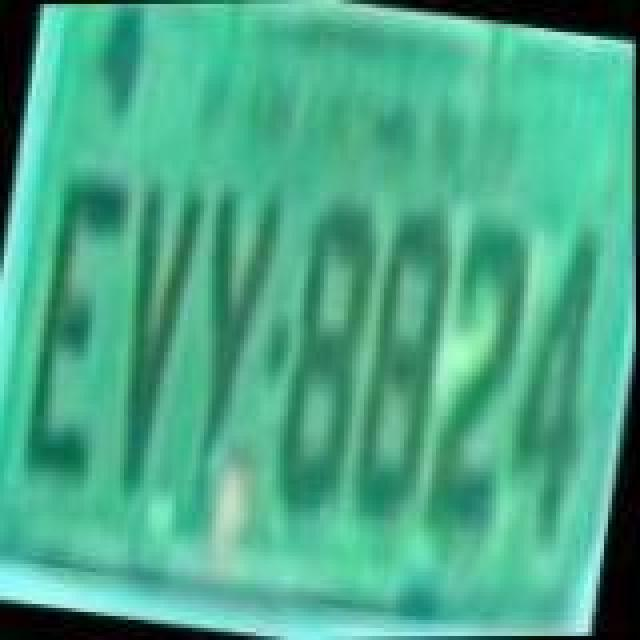2: (412, 208, 544, 548)
4: (494, 222, 622, 554)
8: (258, 188, 390, 524), (340, 196, 468, 528)
E: (10, 160, 142, 488)
V: (96, 178, 216, 498)
Y: (166, 180, 290, 496)
